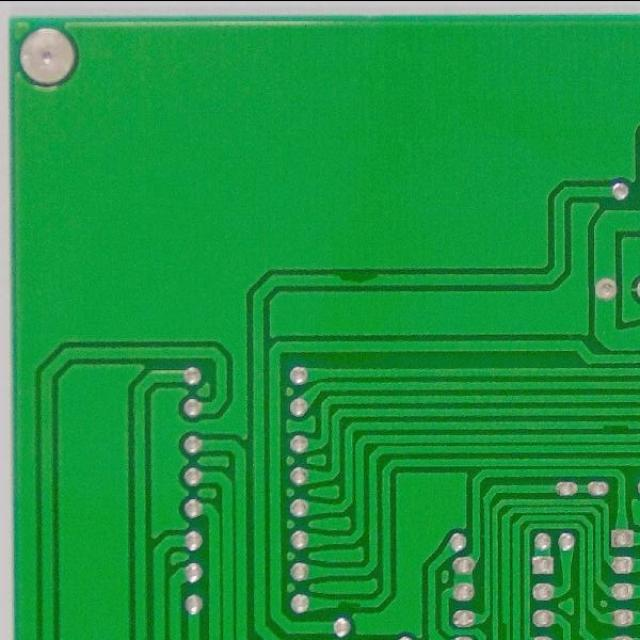mouse_bite: (328, 269, 383, 289), (598, 418, 636, 432), (334, 596, 365, 612), (499, 615, 512, 639)
